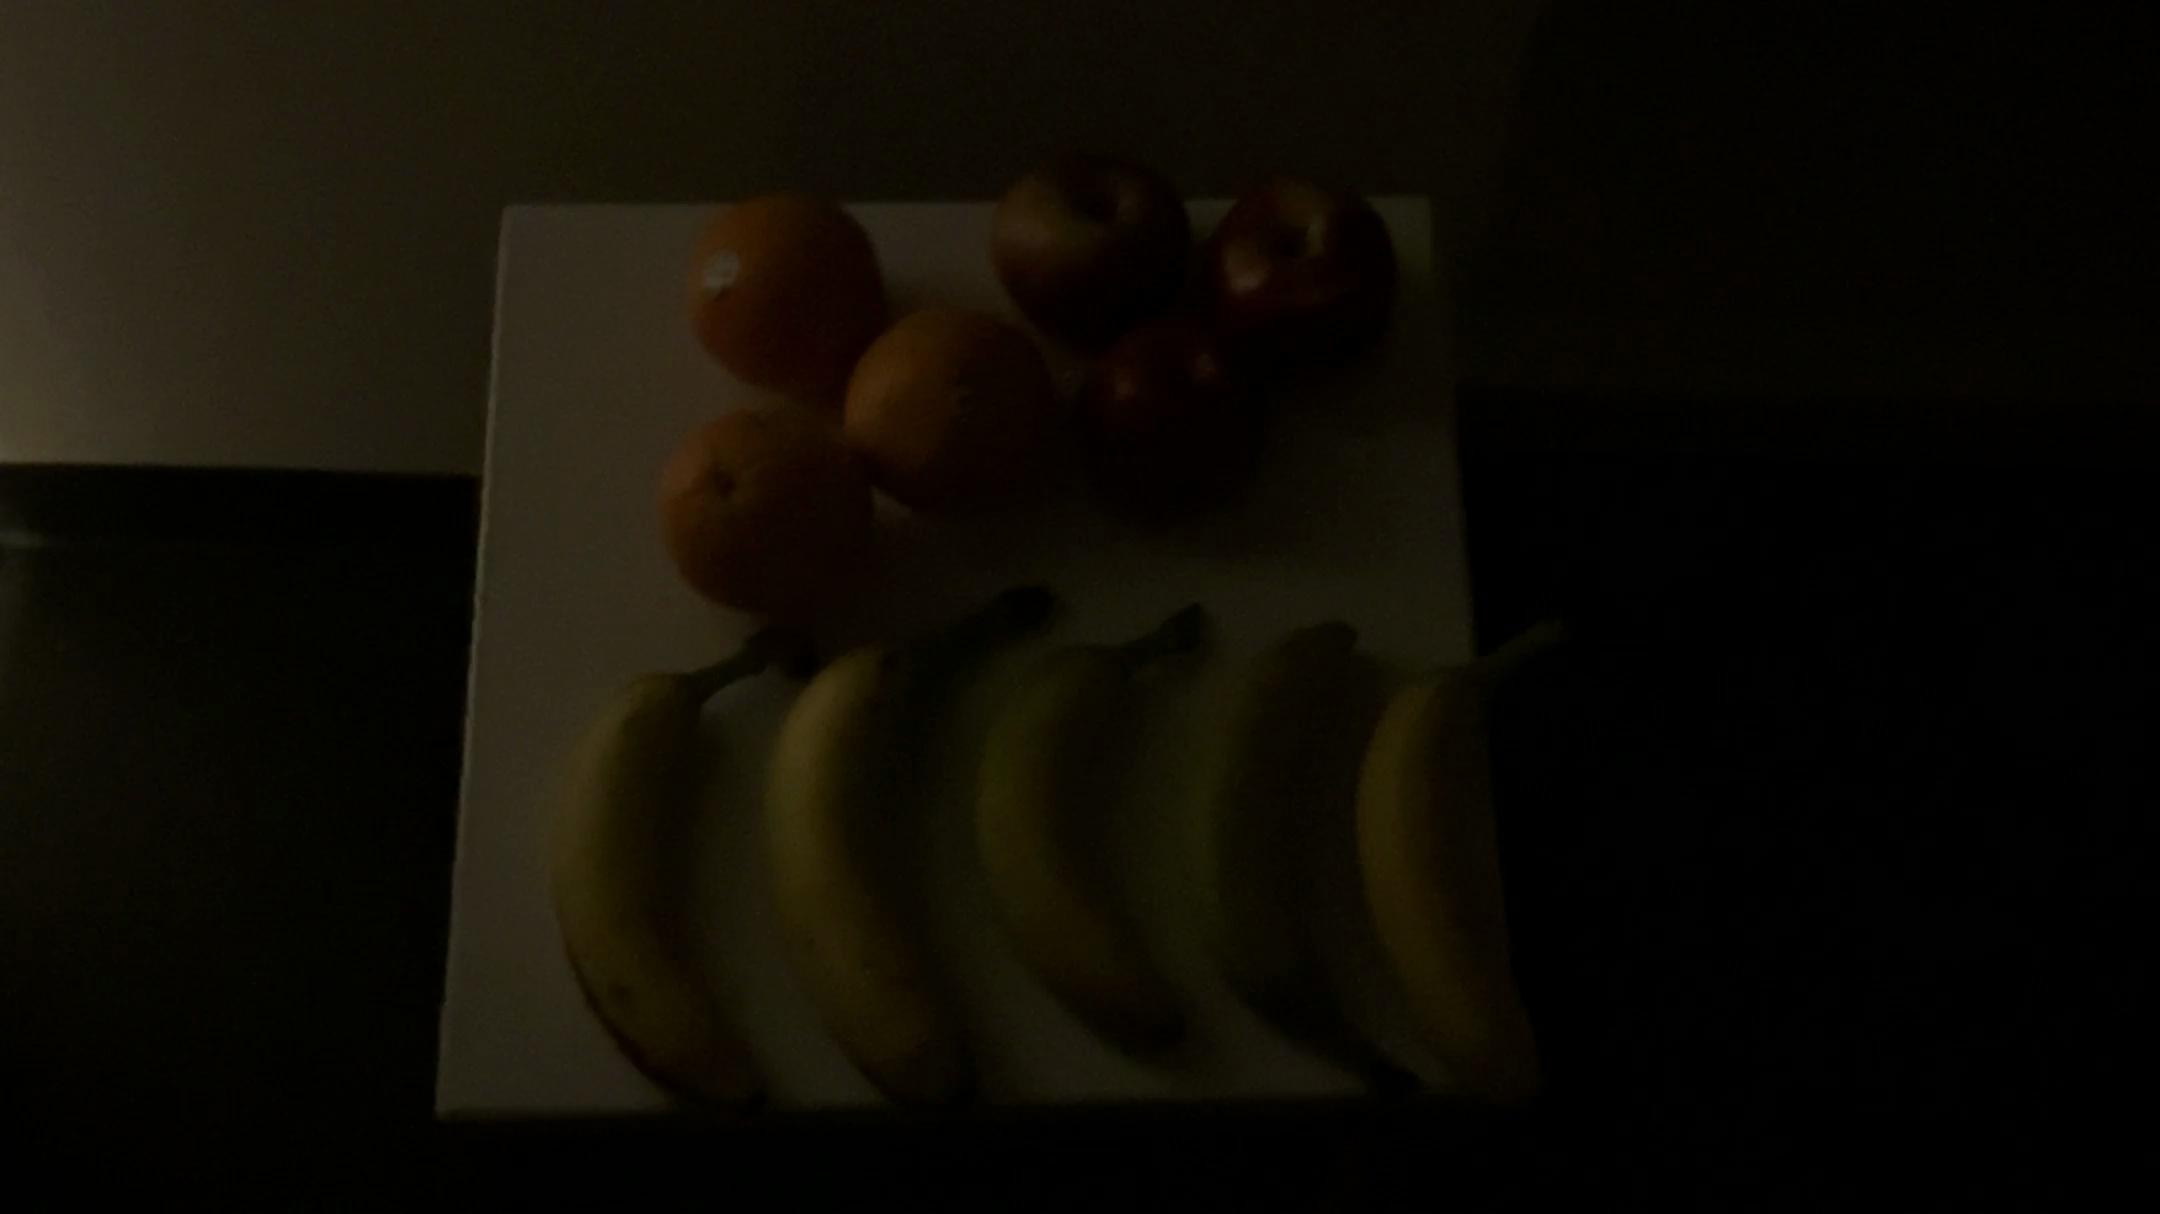apple: (1202, 154, 1399, 383), (1089, 315, 1288, 531), (979, 134, 1194, 306)
banana: (761, 568, 1062, 1121), (547, 620, 800, 1113), (978, 580, 1228, 1072), (1163, 620, 1415, 1109), (1365, 631, 1590, 1112)
orange: (674, 169, 887, 393), (645, 398, 871, 600), (849, 292, 1053, 511)
